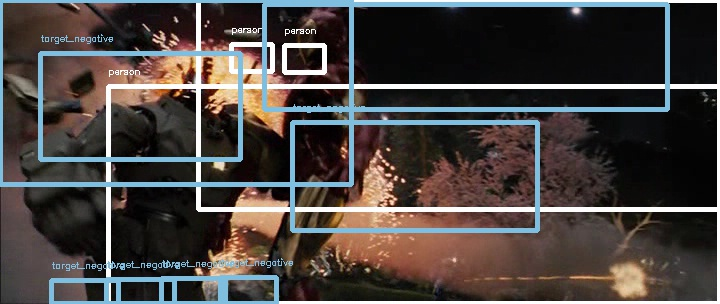person: (302, 14, 344, 62), (301, 14, 343, 62), (303, 14, 345, 62), (302, 13, 344, 61), (302, 15, 344, 63)
target_negative: (387, 142, 609, 240), (498, 150, 620, 180), (613, 142, 641, 189), (629, 290, 657, 299), (57, 186, 190, 187)
